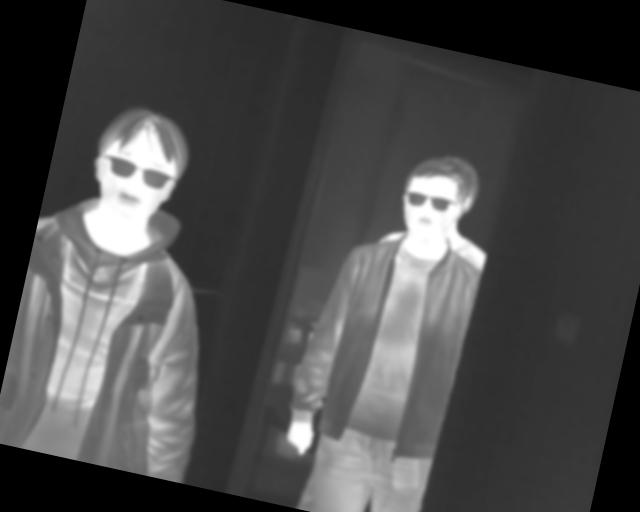face: (82, 98, 195, 232), (392, 150, 477, 249)
